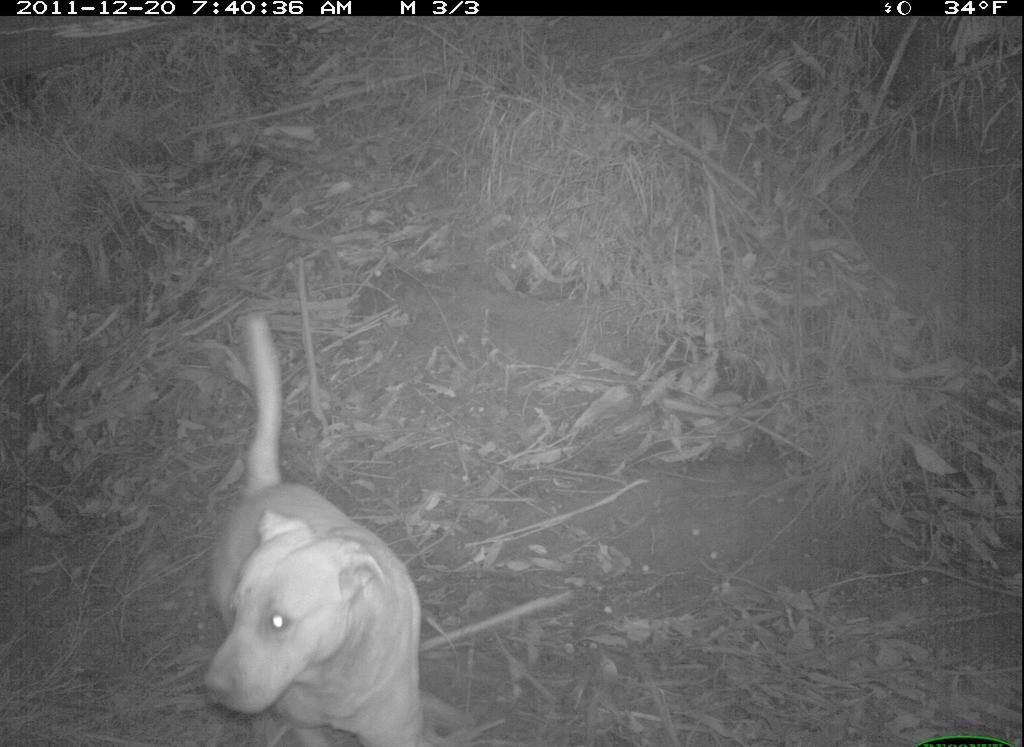dog: (192, 303, 432, 747)
